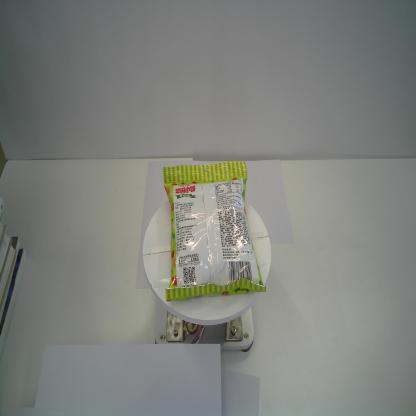Puffed Food: (161, 160, 268, 303)
